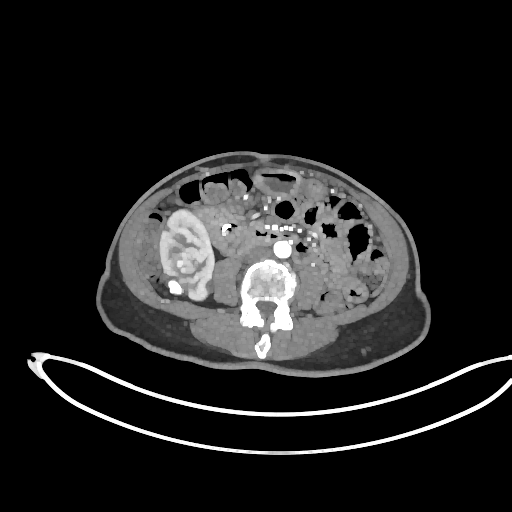Lesion: (174, 244, 205, 278)
